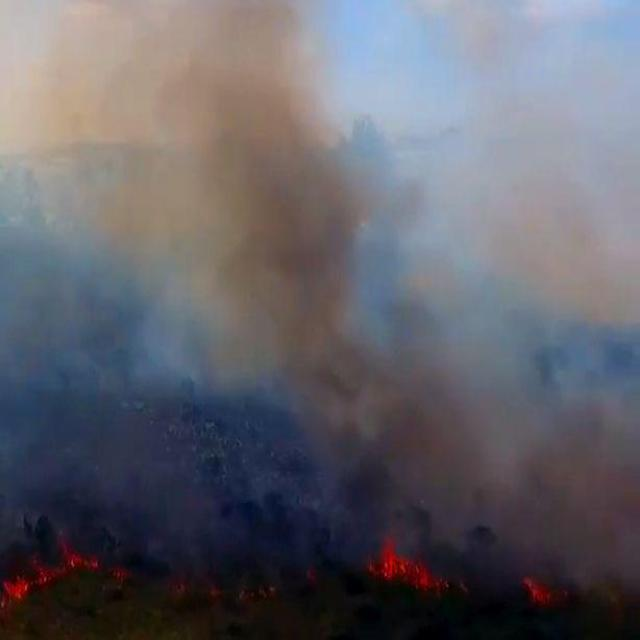Fire: (18, 534, 124, 592), (374, 548, 486, 594), (520, 569, 568, 608), (4, 580, 28, 602)
Smoke: (26, 18, 564, 427)
